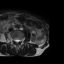CCS_normal: (16, 38, 18, 45)
LFS_normal: (19, 37, 21, 43)
LLS_normal: (18, 38, 19, 44)
RFS_normal: (12, 37, 14, 42)
RLS_normal: (14, 38, 16, 43)
